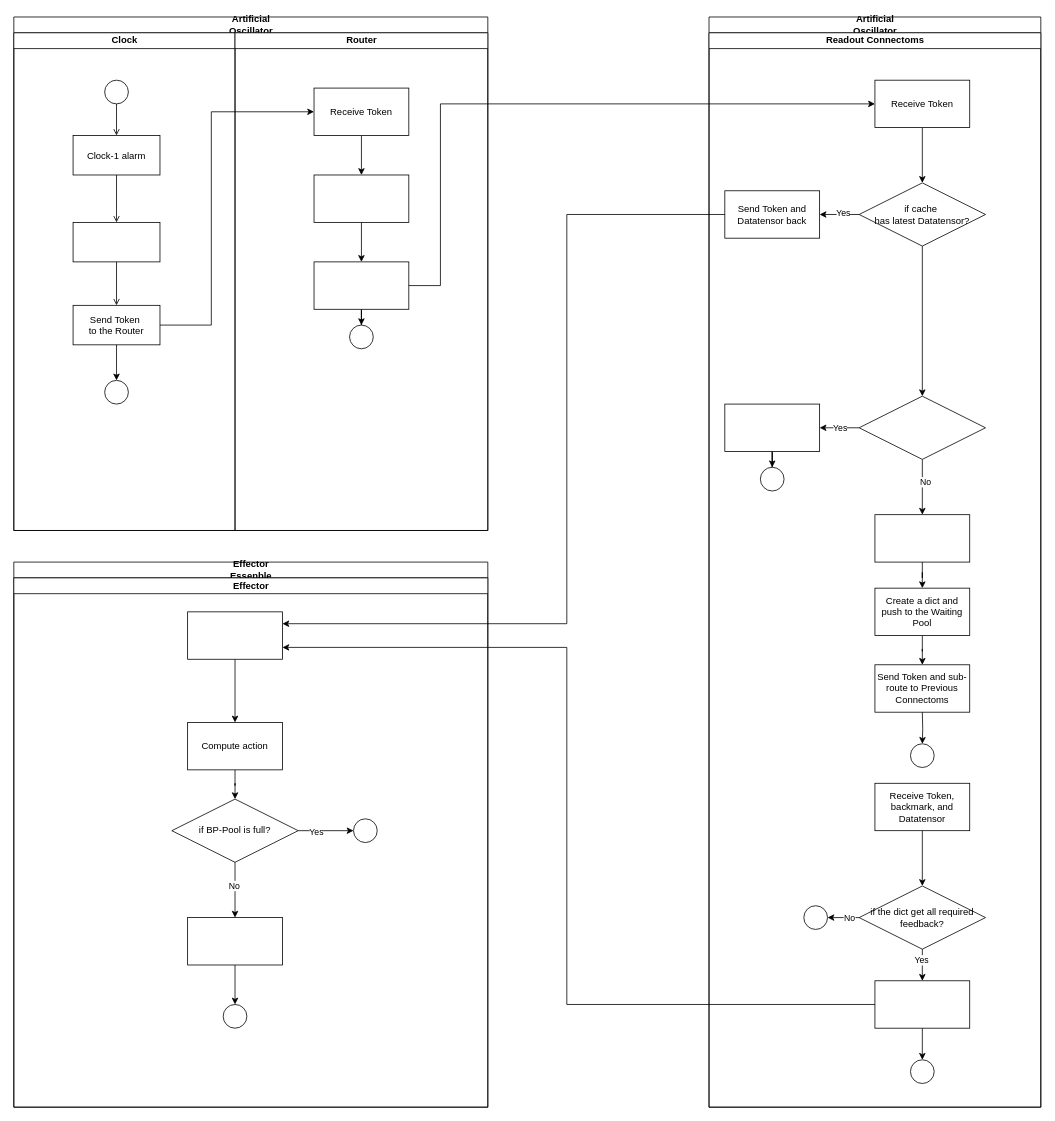
The diagram is 1055 pixels wide and 1121 high, and some of its shapes have lost their labels. Each missing label, with the box of its shape:
Drop the Token: (724, 403, 820, 451)
Find route (based on Token): (313, 174, 409, 222)
Generate Token: (72, 222, 160, 262)
if Waiting Pool is full?: (858, 395, 986, 459)
Peeling the sub-route: (874, 514, 970, 562)
Push Token and Computing Graph to the BP-Pool: (187, 917, 282, 965)
Receive Token and Datatensor: (187, 611, 282, 659)
Send Token and required feedback back: (874, 980, 970, 1028)
Send Token and route to MMLSM: (313, 261, 409, 309)
